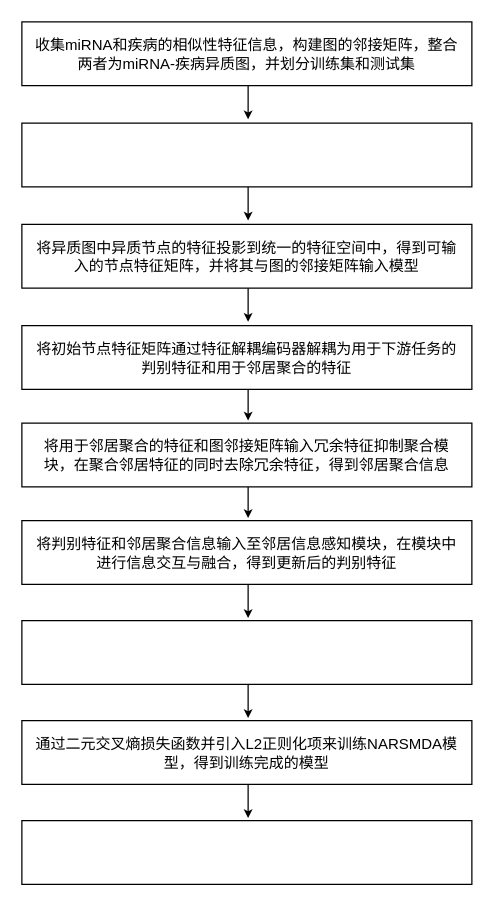
Image size: 494x906. Some labels were removed from this diagram. The shapes that lost their labels are listed below. From the top down, each one's centre as x and y in pixels, then its label:
(246,154): 构建NARSMDA模型：所述模型包括特征解耦编码器、冗余特征抑制聚合模块、邻居信息感知模块、预测模块
(246,651): 经过模型一定层数的处理后得到最终的判别特征，将其输入至预测模块，得到模型输出的miRNA-疾病关联预测分数
(246,851): 将测试集图数据输入训练完成的模型，得到模型输出的最终预测分数，并评估模型性能
